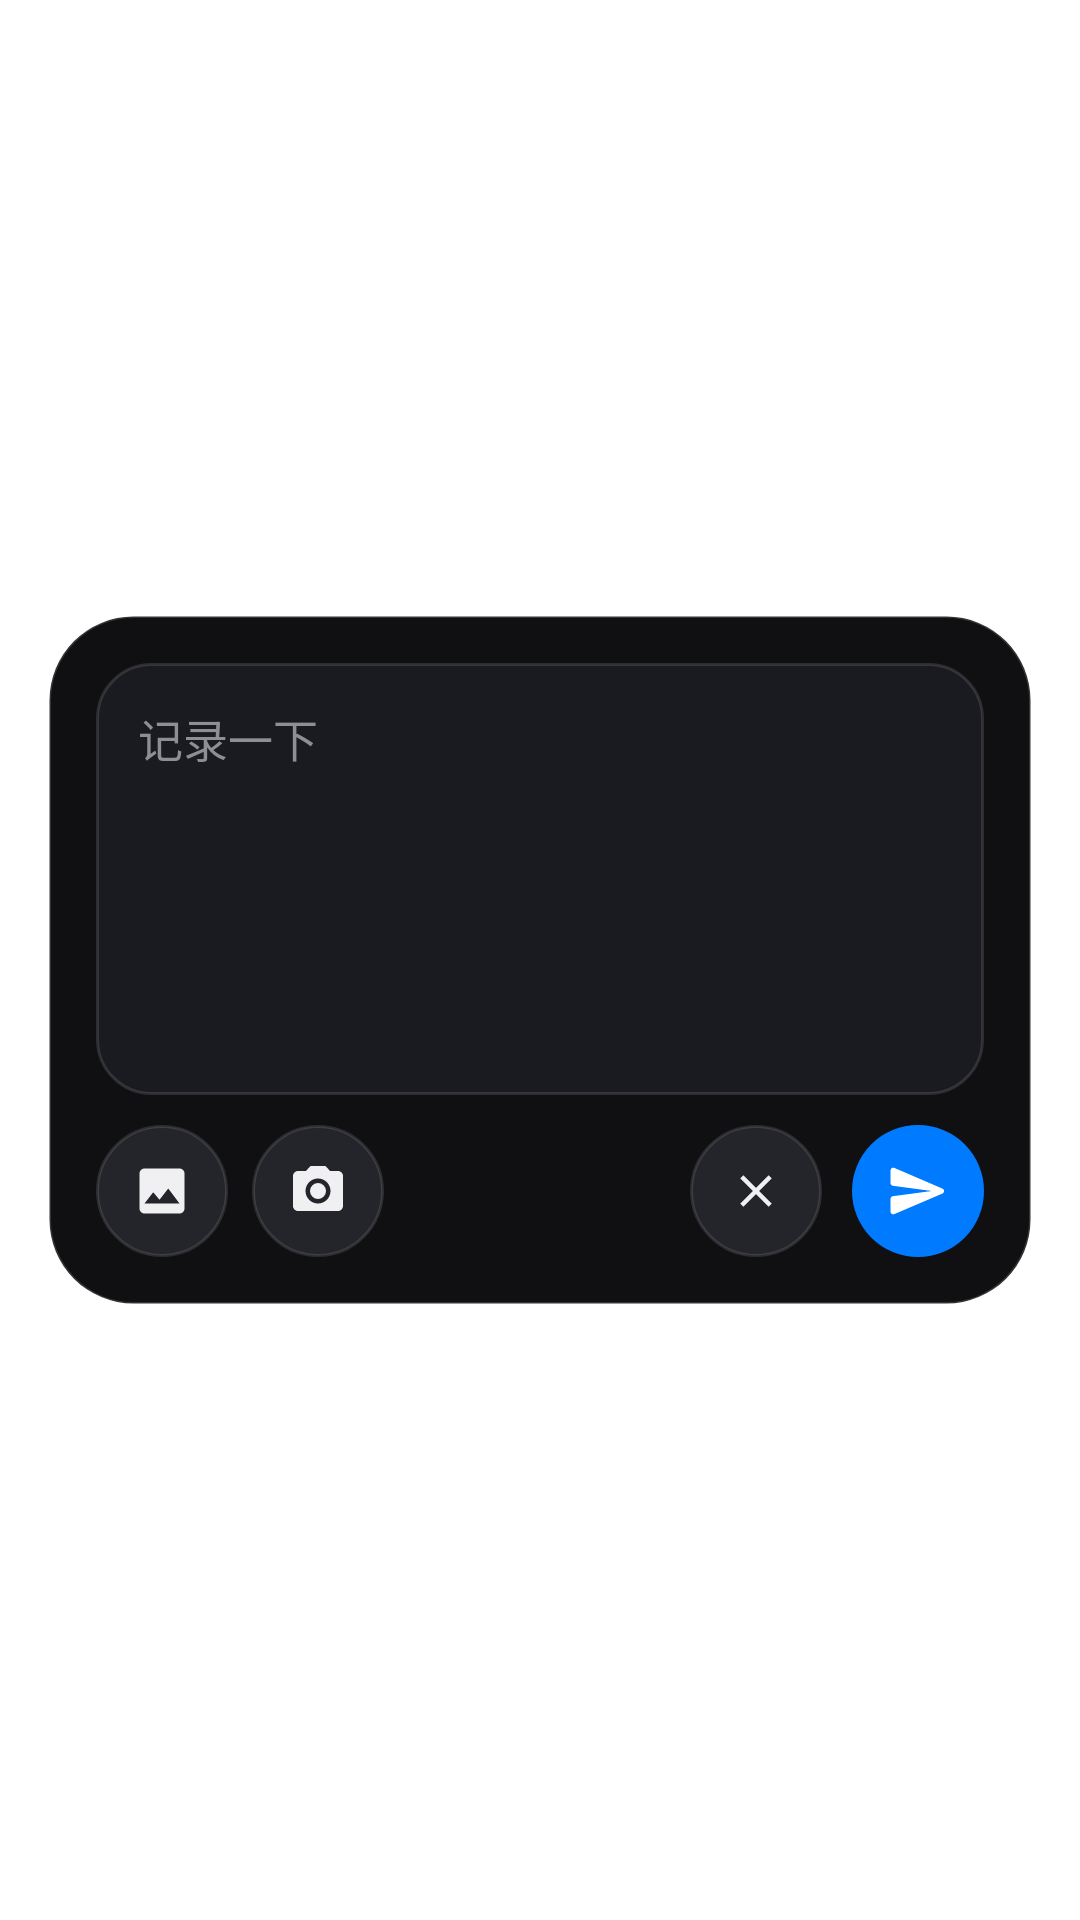

Icon click points for this 1080px x 1920px phone screenshot, format (x=x, y=y):
发送记录: (x=918, y=1191)
取消: (x=756, y=1191)
启动相机拍照: (x=318, y=1191)
选择相册图片: (x=162, y=1191)
